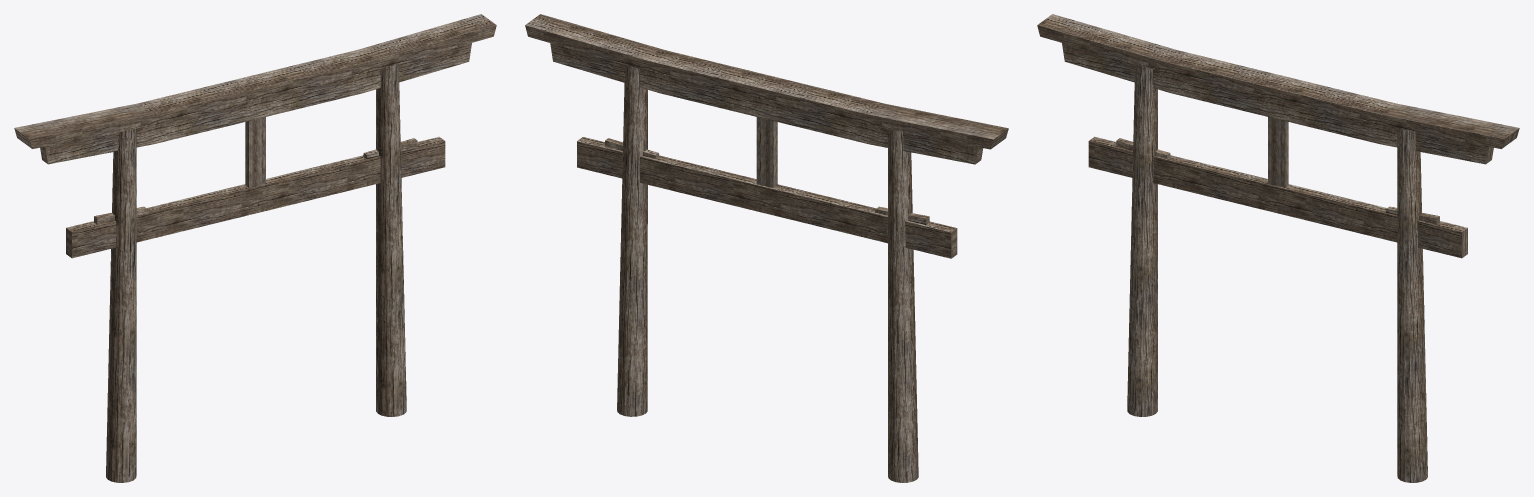
File: ToriGate01.fbx
3 renders of one model, left to right at view 1: azimuth 30°, elevation 25°; view 2: azimuth 150°, elevation 25°; view 3: azimuth 330°, elevation 25°, orthographic.
Visible parts, largest first — view 1: Cylinder; view 2: Cylinder; view 3: Cylinder.
Boxes of the visible parts, left/top/right/bottom form: Cylinder: left=14, top=14, right=496, bottom=482; Cylinder: left=525, top=14, right=1008, bottom=482; Cylinder: left=1037, top=14, right=1519, bottom=482.
Size of the model in its own units: 3484 by 2610 by 210.
